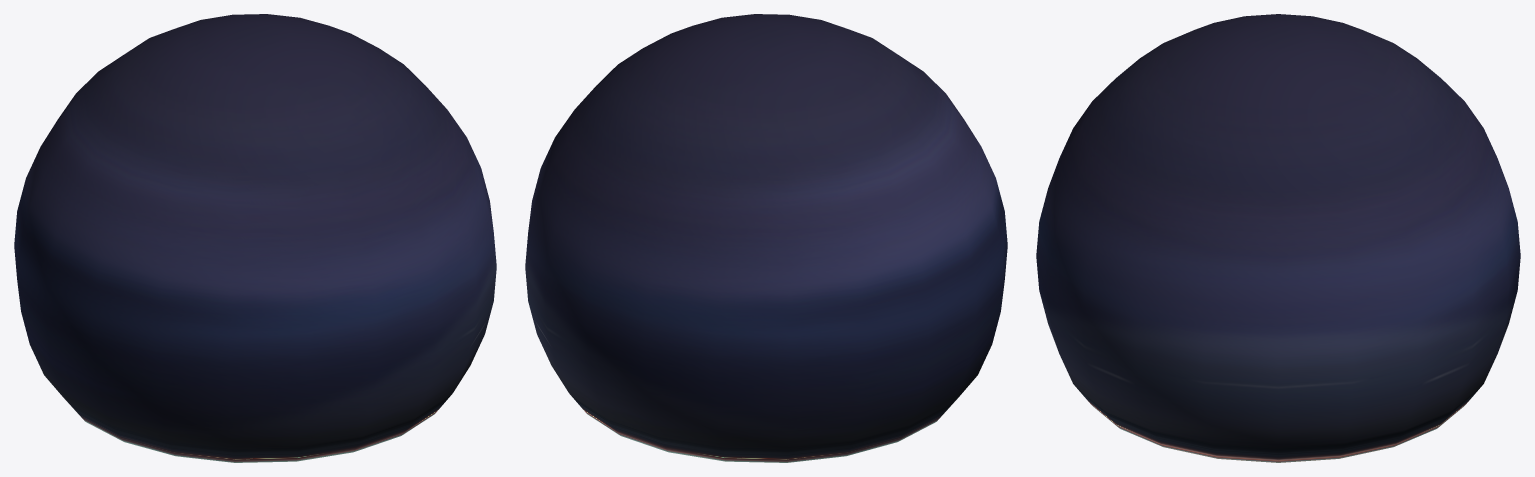
The model's file is setBG.fbx.
The picture shows the model from 3 angles, left to right: view 1: azimuth 30°, elevation 25°; view 2: azimuth 150°, elevation 25°; view 3: azimuth 270°, elevation 25°; orthographic projection.
Visible parts, largest first — view 1: setBG; view 2: setBG; view 3: setBG.
Part boxes in pixels (x1,y1,x2,y2): setBG: (14,14,496,462); setBG: (525,14,1007,462); setBG: (1036,14,1520,462).
Size of the model in its own units: 202 by 158 by 202.
